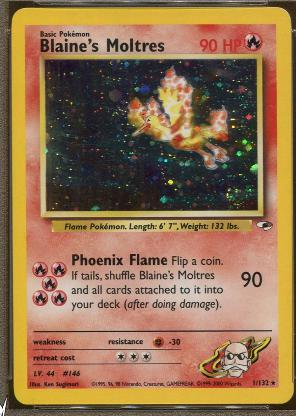Card: (10, 2, 292, 406)
